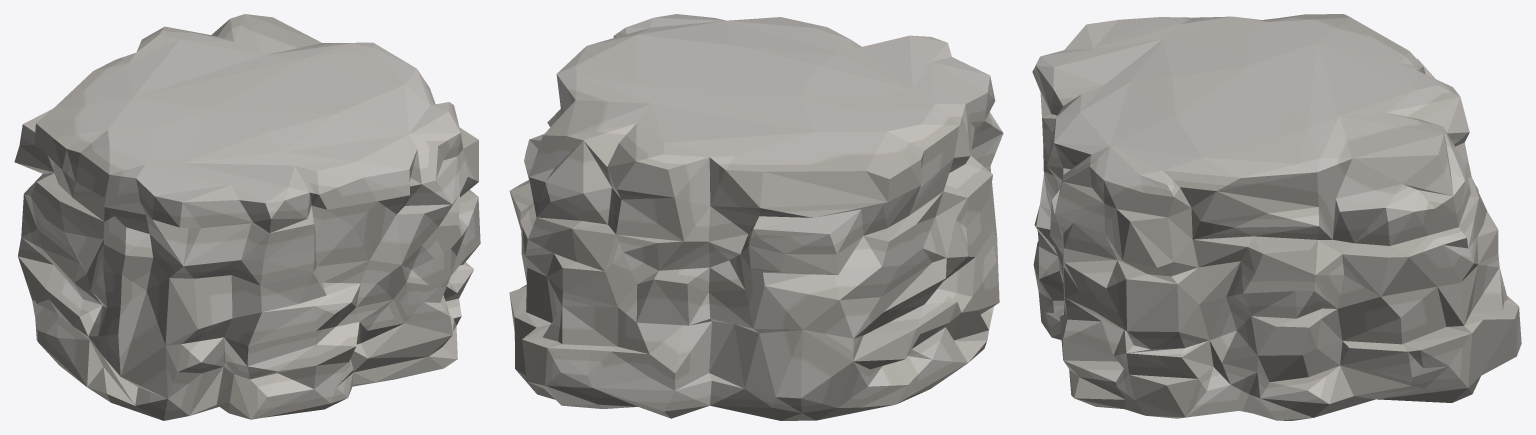
Rendered from ancient_SM_Env_Rock_Cliff_Layers_01.gltf.
The picture shows the model from 3 angles, left to right: view 1: azimuth 30°, elevation 25°; view 2: azimuth 150°, elevation 25°; view 3: azimuth 270°, elevation 25°; orthographic projection. The views are drawn at different scales.
Parts seen in each view (by area): view 1: SM_Env_Rock_Cliff_Layers_01; view 2: SM_Env_Rock_Cliff_Layers_01; view 3: SM_Env_Rock_Cliff_Layers_01.
Part boxes in pixels (x1,y1,x2,y2): SM_Env_Rock_Cliff_Layers_01: [14, 14, 480, 420]; SM_Env_Rock_Cliff_Layers_01: [509, 14, 1003, 420]; SM_Env_Rock_Cliff_Layers_01: [1032, 14, 1521, 420].
Size of the model in its own units: 15.68 by 10.22 by 17.21.
Materials: 1 (1 with a texture image).
